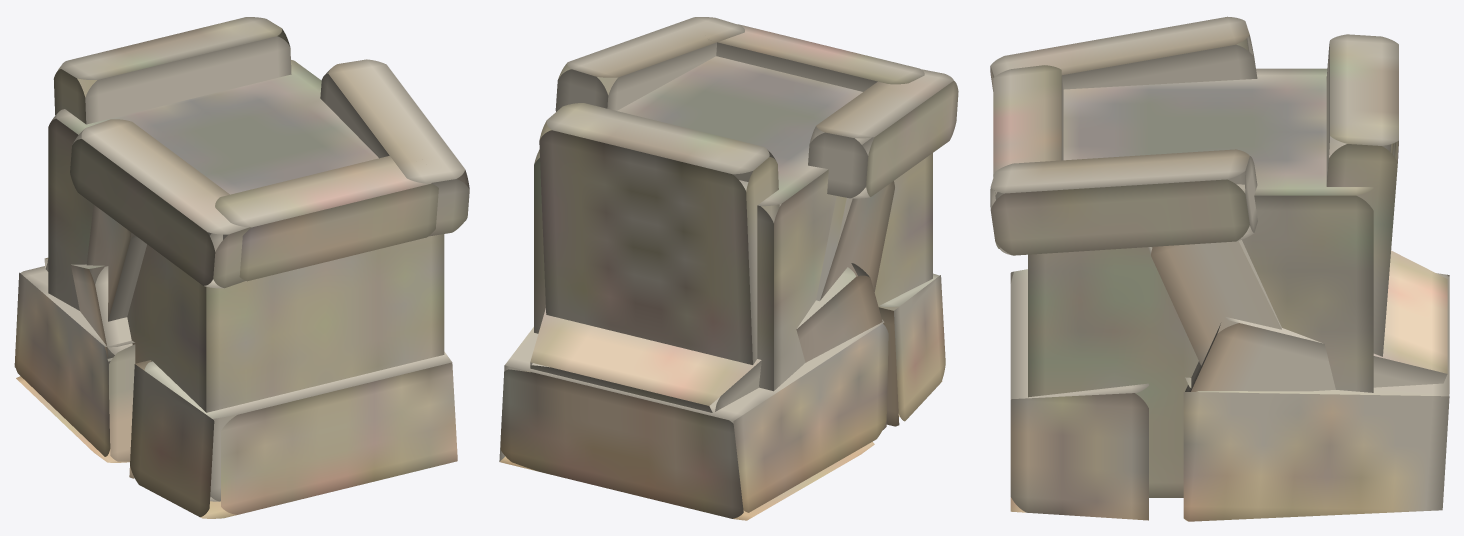
Rendered from tmspmg_b_l.obj.
The picture shows the model from 3 angles, left to right: view 1: azimuth 30°, elevation 25°; view 2: azimuth 150°, elevation 25°; view 3: azimuth 270°, elevation 25°; orthographic projection. The views are drawn at different scales.
Parts seen in each view (by area): view 1: cube; view 2: cube; view 3: cube.
Part boxes in pixels (x1,y1,x2,y2): cube: (14, 17, 469, 518); cube: (499, 17, 958, 520); cube: (990, 16, 1449, 521).
Size of the model in its own units: 0.3519 by 0.3565 by 0.4171.
